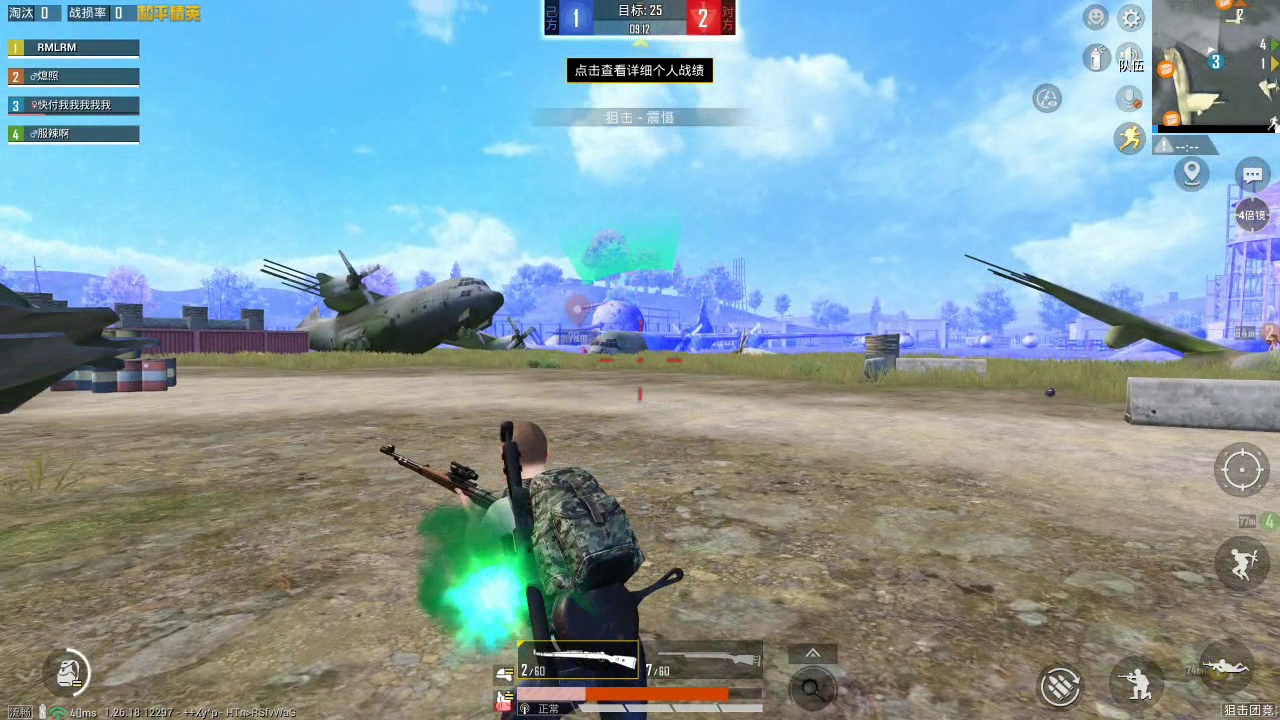enemy: (578, 346, 589, 355)
